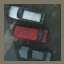car: (7, 5, 46, 22), (13, 25, 48, 43), (19, 46, 51, 61)
